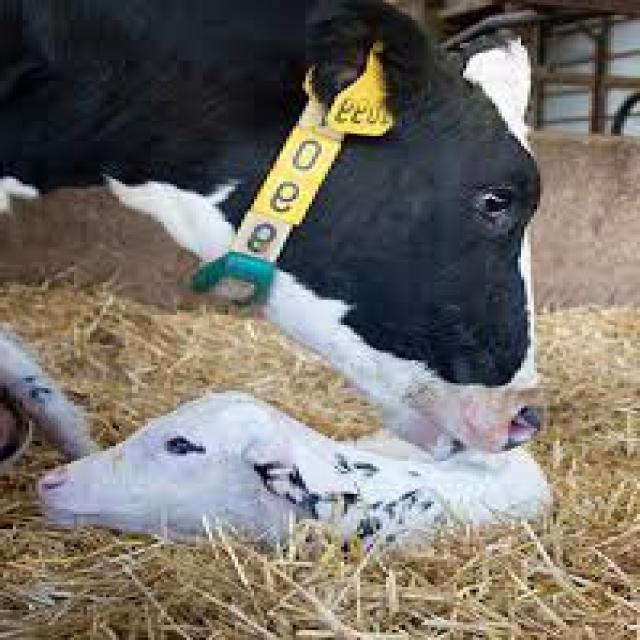cow: (3, 0, 540, 449), (42, 391, 550, 544)
